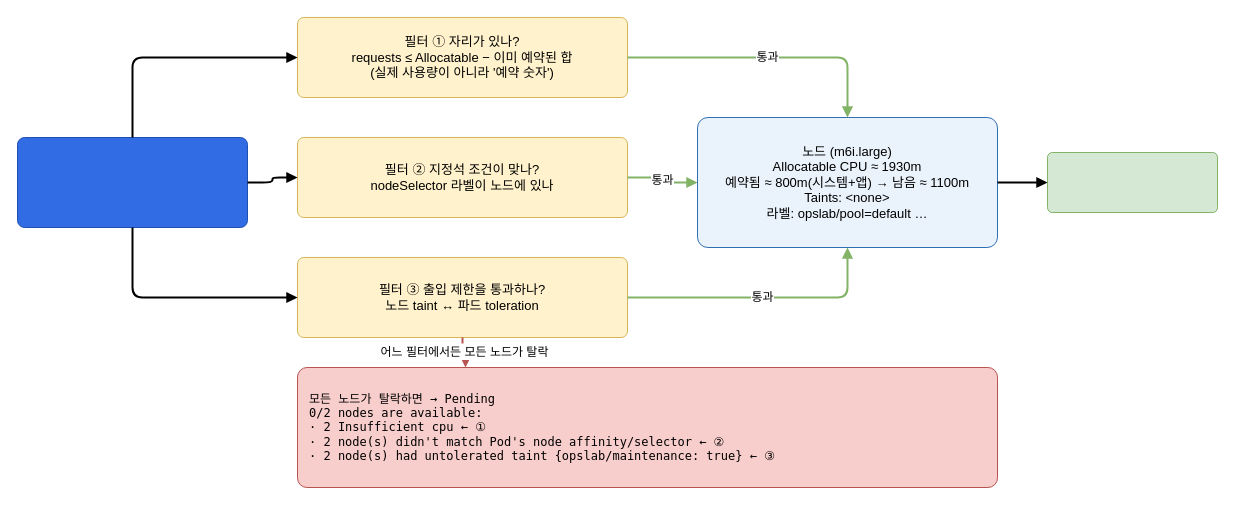
Image size: 1235x505. Some labels were removed from this diagram. The shapes that lost their labels are listed below. From the top down, each one's box as (x1, y1, x2, y2) in pixels, then its label:
(16, 136, 248, 228): 새 파드 requests: cpu 100m, memory 128Mi nodeSelector · tolerations
(1046, 152, 1218, 212): ✔ 배치 → kubelet이 실행
